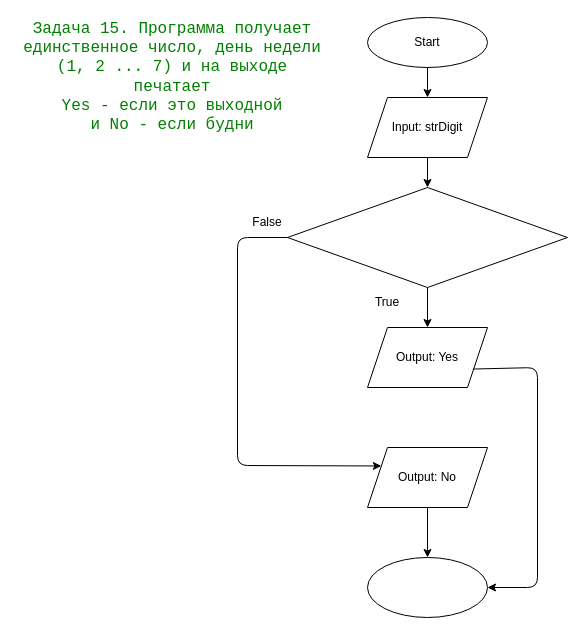
Image size: 585x635. Some labels were removed from this diagram. The box of each missing label's shape, as (x1, y1, x2, y2) in pixels:
End: (366, 556, 488, 618)
strDigit == "6" or strDigit == "7": (286, 186, 568, 288)
